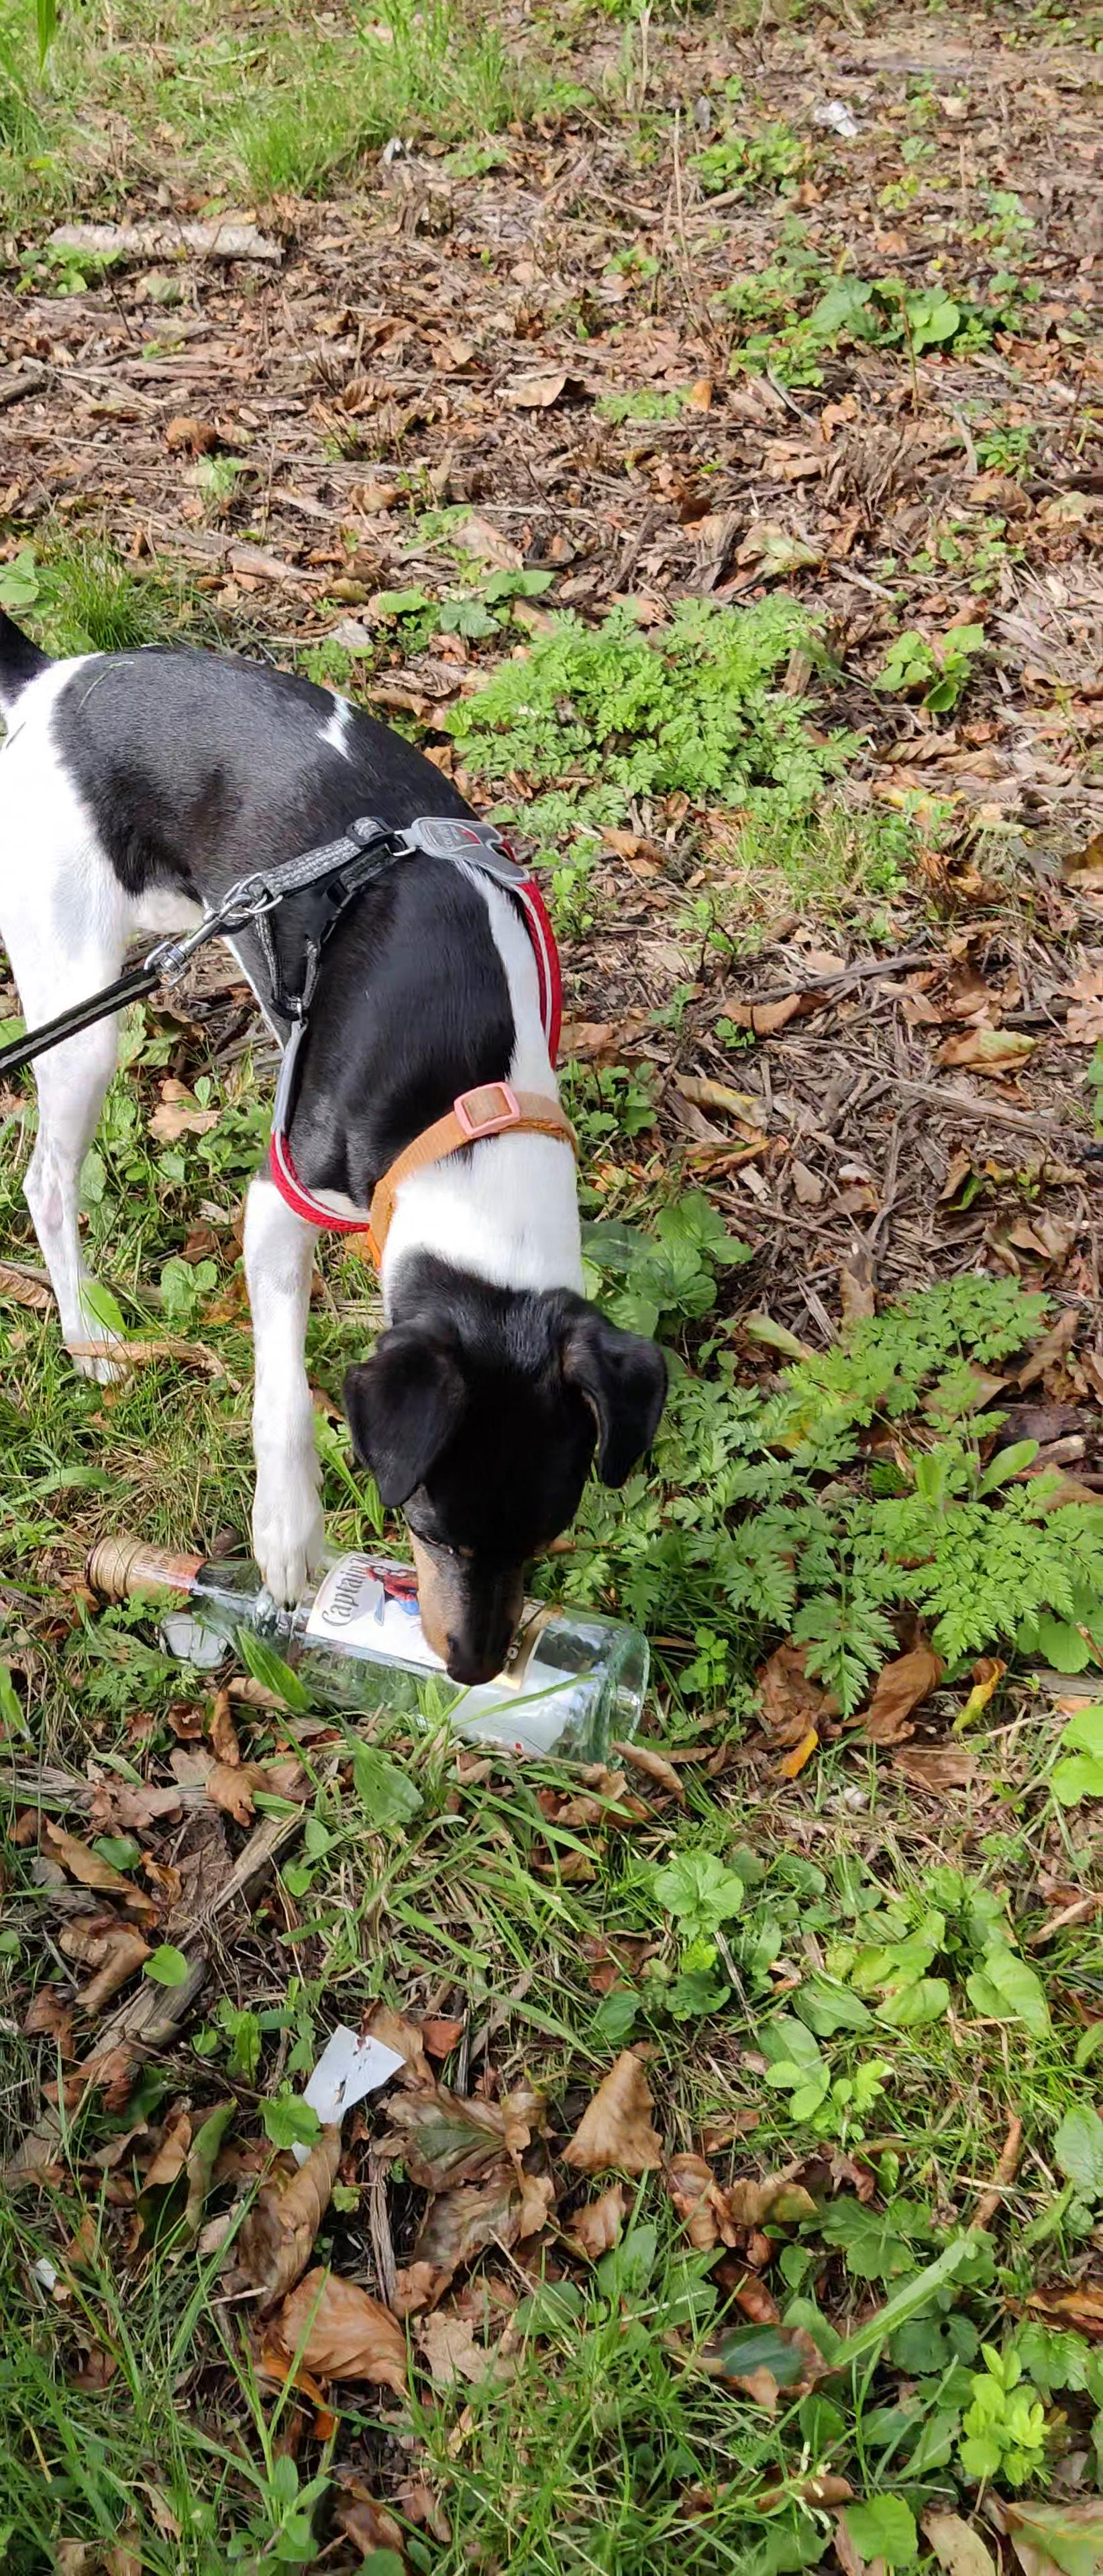Dog: (0, 555, 689, 1707)
